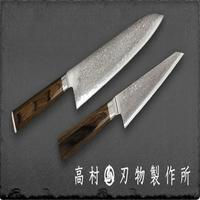knife: (12, 10, 190, 164)
